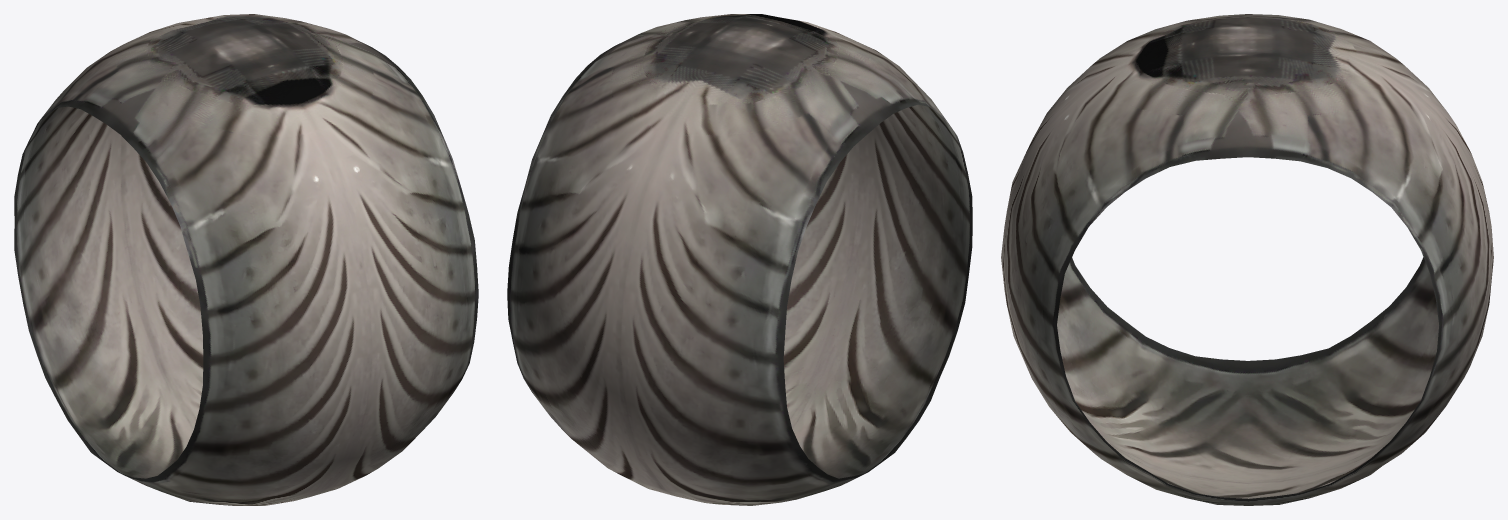
Rendered from wheel_middle.glb.
The picture shows the model from 3 angles, left to right: view 1: azimuth 30°, elevation 25°; view 2: azimuth 150°, elevation 25°; view 3: azimuth 270°, elevation 25°; orthographic projection.
Visible parts, largest first — view 1: wheel_middle; view 2: wheel_middle; view 3: wheel_middle.
Boxes of the visible parts, left/top/right/bottom form: wheel_middle: left=14, top=14, right=478, bottom=505; wheel_middle: left=507, top=14, right=972, bottom=505; wheel_middle: left=1001, top=14, right=1493, bottom=505.
Bounding box in the file's own units: 0.5605 × 0.834 × 0.8438.
1 material, 1 textured.
